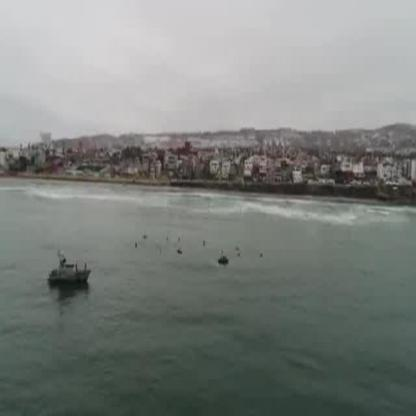Boat: (44, 250, 92, 296)
